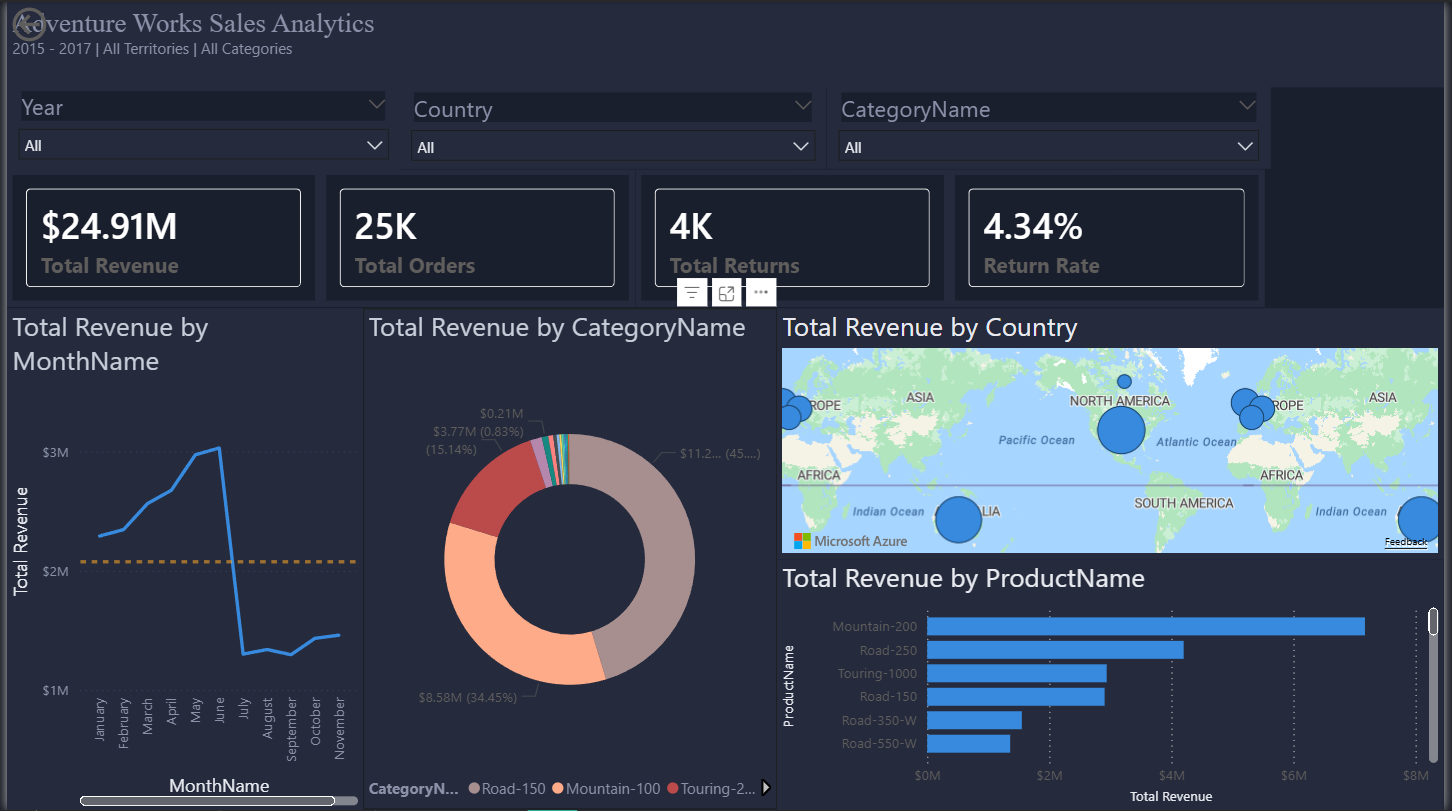

This screenshot's page, from the dashboard's own definition file:
{"tool":"powerbi","page":{"name":"Executive Overview","canvas":[1280,720],"ordinal":0},"visuals":[{"type":"cardVisual","fields":{"Data":["table_measure.Total Revenue"]},"box":[0,149.7,279.8,122.7],"z":0},{"type":"cardVisual","fields":{"Data":["table_measure.Total Orders"]},"box":[279.8,149.7,279.8,122.7],"z":1000},{"type":"cardVisual","fields":{"Data":["table_measure.Total Returns"]},"box":[559.5,149.7,279.8,122.7],"z":2000},{"type":"cardVisual","fields":{"Data":["table_measure.Return Rate"]},"box":[839.3,149.7,281,122.7],"z":3000},{"type":"lineChart","fields":{"Y":["table_measure.Total Revenue"],"Category":["gold extcalendar.Date Hierarchy.MonthName"]},"box":[0,272.4,317.8,447.9],"z":4000},{"type":"donutChart","fields":{"Y":["table_measure.Total Revenue"],"Category":["gold extsubcategories.CategoryName"]},"box":[317.8,272.4,368.1,446.6],"z":5000},{"type":"clusteredBarChart","fields":{"Category":["gold extproducts.ProductName"],"Y":["table_measure.Total Revenue"]},"box":[685.9,496.9,593.9,223.3],"z":6000},{"type":"azureMap","fields":{"Category":["gold extterritories.Country"],"Size":["table_measure.Total Revenue"]},"box":[685.9,272.4,593.9,223.3],"z":7000},{"type":"slicer","fields":{"Values":["gold extcalendar.Year"]},"box":[0,75,350,75],"z":8000},{"type":"slicer","fields":{"Values":["gold extterritories.Country"]},"box":[350,76.2,380,72.5],"z":9000},{"type":"slicer","fields":{"Values":["gold extsubcategories.CategoryName"]},"box":[730,76.2,395,72.5],"z":10000},{"type":"textbox","box":[0,0,1280,75.9],"z":11000},{"type":"actionButton","box":[0,0,100,40],"z":12000}]}

Visuals, with their boxes in screenshot pixels (x1, y1, x2, y2), scaled from the page's 1280x720 canvas onto the 1452x811 screenshot:
cardVisual - table_measure.Total Revenue: {"x1": 0, "y1": 169, "x2": 317, "y2": 307}
cardVisual - table_measure.Total Orders: {"x1": 317, "y1": 169, "x2": 635, "y2": 307}
cardVisual - table_measure.Total Returns: {"x1": 635, "y1": 169, "x2": 952, "y2": 307}
cardVisual - table_measure.Return Rate: {"x1": 952, "y1": 169, "x2": 1271, "y2": 307}
lineChart - table_measure.Total Revenue x gold extcalendar.Date Hierarchy.MonthName: {"x1": 0, "y1": 307, "x2": 361, "y2": 810}
donutChart - table_measure.Total Revenue x gold extsubcategories.CategoryName: {"x1": 361, "y1": 307, "x2": 778, "y2": 810}
clusteredBarChart - gold extproducts.ProductName x table_measure.Total Revenue: {"x1": 778, "y1": 560, "x2": 1451, "y2": 810}
azureMap - gold extterritories.Country x table_measure.Total Revenue: {"x1": 778, "y1": 307, "x2": 1451, "y2": 558}
slicer - gold extcalendar.Year: {"x1": 0, "y1": 84, "x2": 397, "y2": 169}
slicer - gold extterritories.Country: {"x1": 397, "y1": 86, "x2": 828, "y2": 167}
slicer - gold extsubcategories.CategoryName: {"x1": 828, "y1": 86, "x2": 1276, "y2": 167}
textbox: {"x1": 0, "y1": 0, "x2": 1451, "y2": 85}
actionButton: {"x1": 0, "y1": 0, "x2": 113, "y2": 45}
